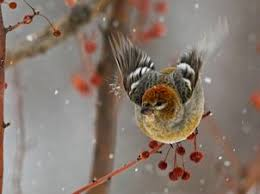hsparrow: (108, 27, 216, 150)
